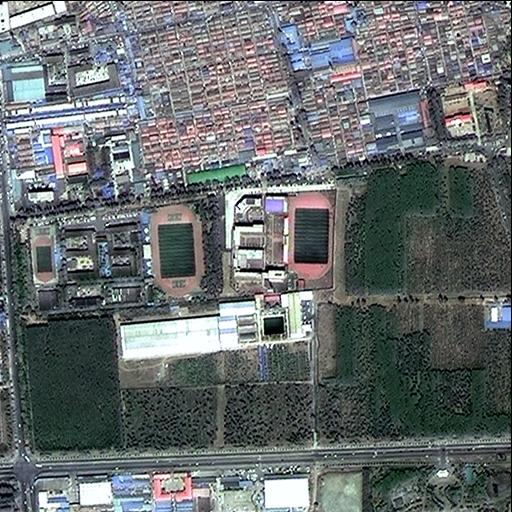school: (103, 193, 222, 308), (223, 184, 337, 294), (26, 217, 103, 315)
